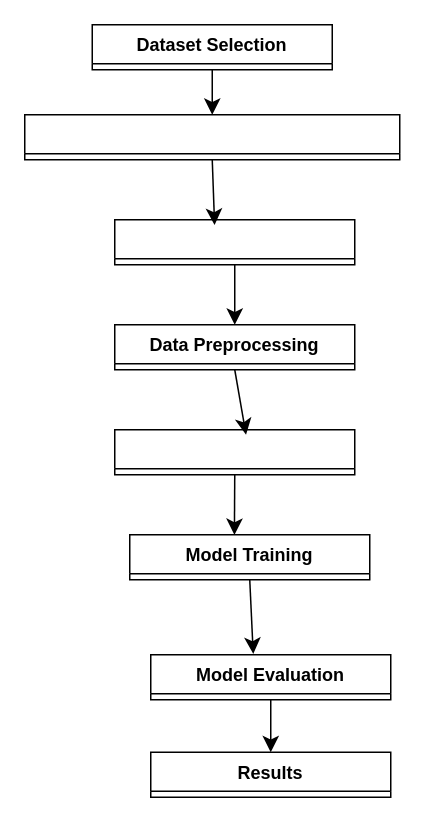
Image size: 425x822. Some labels were removed from this diagram. Here are the shapes that lost their labels. From the top down, the centre of each, then its label:
At (x=211, y=136): "SMS Spam Collection Dataset (CSV)".
At (x=234, y=241): "Data Loading".
At (x=234, y=451): "Train / Test Split".
